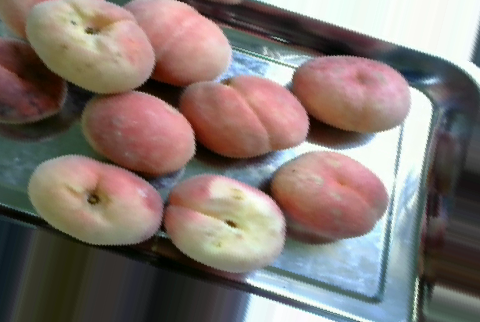Peach: (26, 154, 163, 246), (163, 172, 287, 271), (26, 0, 155, 92), (178, 74, 306, 158), (271, 150, 386, 238), (291, 53, 414, 133), (82, 90, 195, 176), (125, 0, 231, 85)
